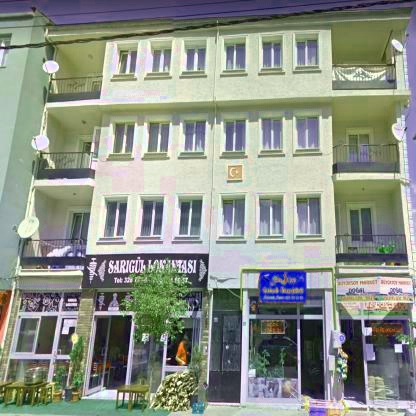door: (208, 310, 242, 402), (85, 315, 111, 395), (89, 126, 101, 169), (335, 204, 343, 254), (81, 144, 91, 167), (99, 78, 103, 91)
